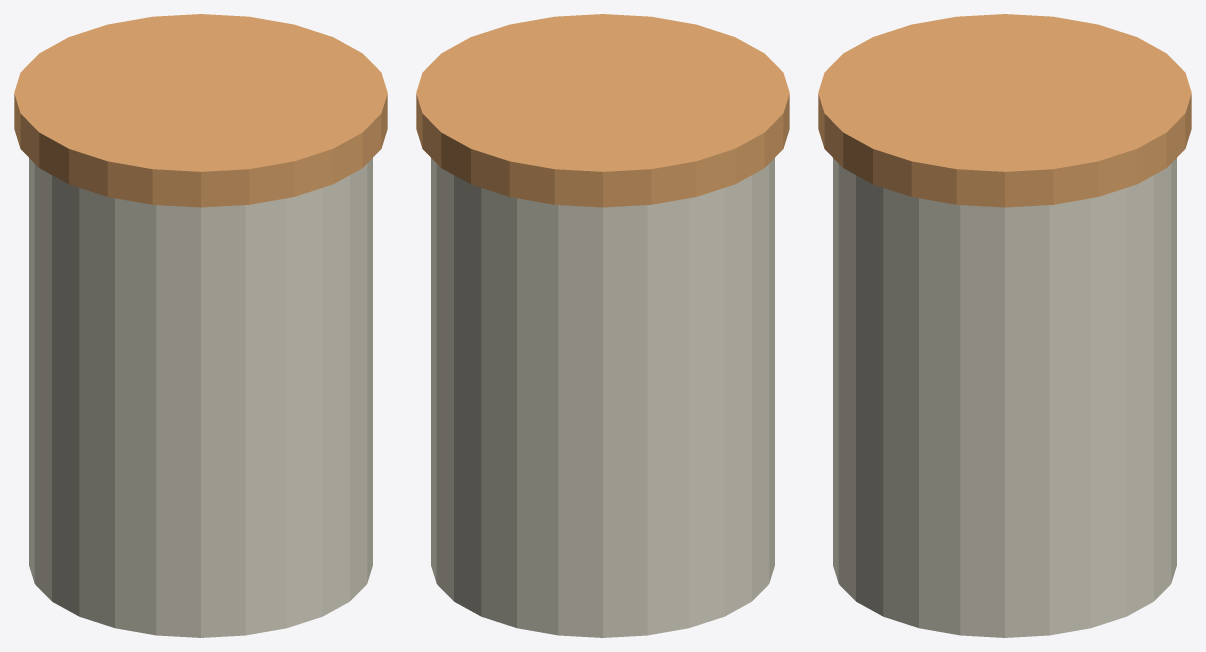
Rendered from item_cup.fbx.
3 views of the same model, side by side, from view 1: azimuth 30°, elevation 25°; view 2: azimuth 150°, elevation 25°; view 3: azimuth 270°, elevation 25° (orthographic).
Parts seen in each view (by area): view 1: item_cup, item_cup_Rim; view 2: item_cup, item_cup_Rim; view 3: item_cup, item_cup_Rim.
Boxes of the visible parts, x1,y1,x2,y2 form: item_cup: (29,158,372,637); item_cup_Rim: (14,14,387,207); item_cup: (431,158,774,637); item_cup_Rim: (416,14,789,207); item_cup: (833,158,1176,637); item_cup_Rim: (818,14,1191,207).
Bounding box in the file's own units: 0.076 × 0.106 × 0.076.
